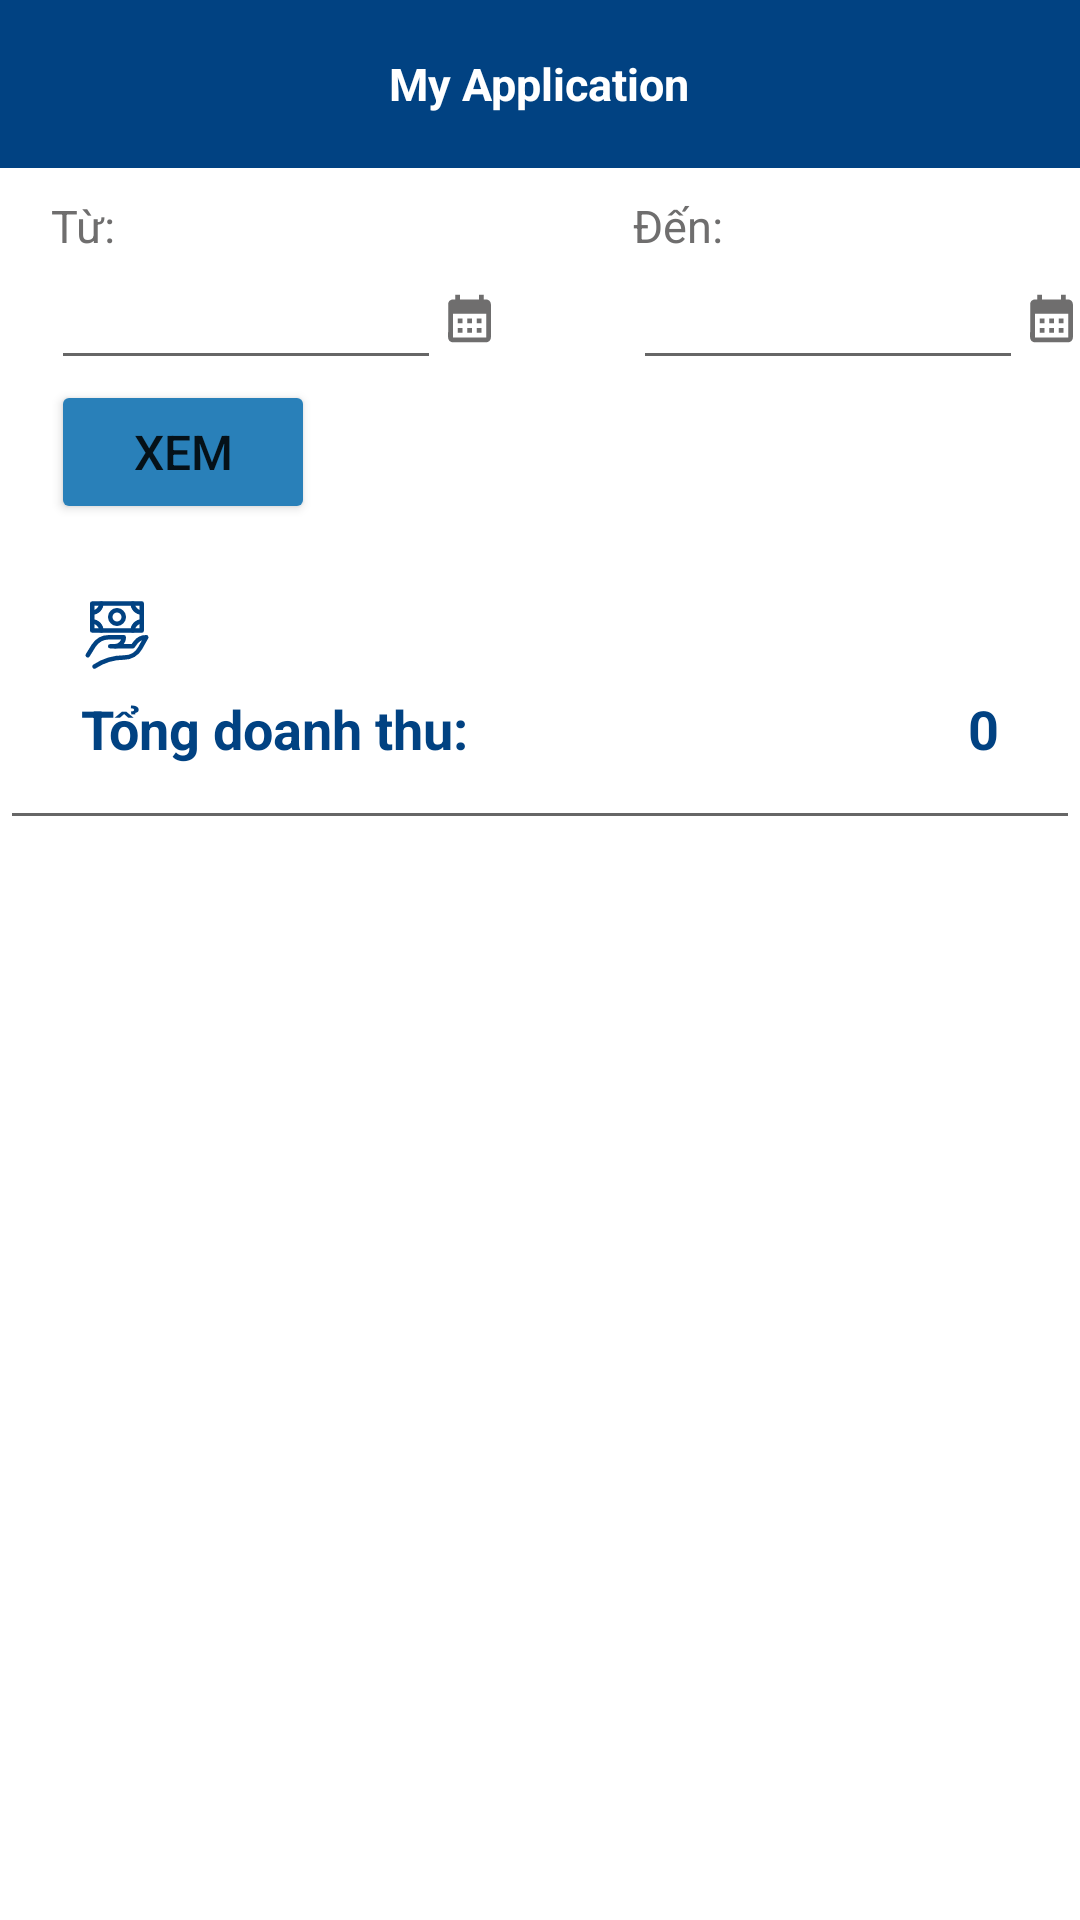

Locate icon controls on the screen. Image size 1080x1920, boxes as (x1, y1, x2, y2).
calendar: (448, 294, 491, 343), (1030, 294, 1073, 343)
money report: (85, 601, 149, 669)
